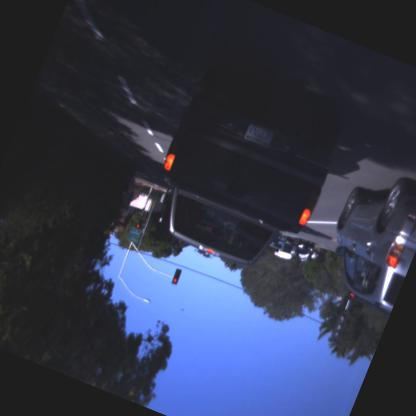trafficlight: (165, 266, 184, 293), (130, 207, 148, 233)
